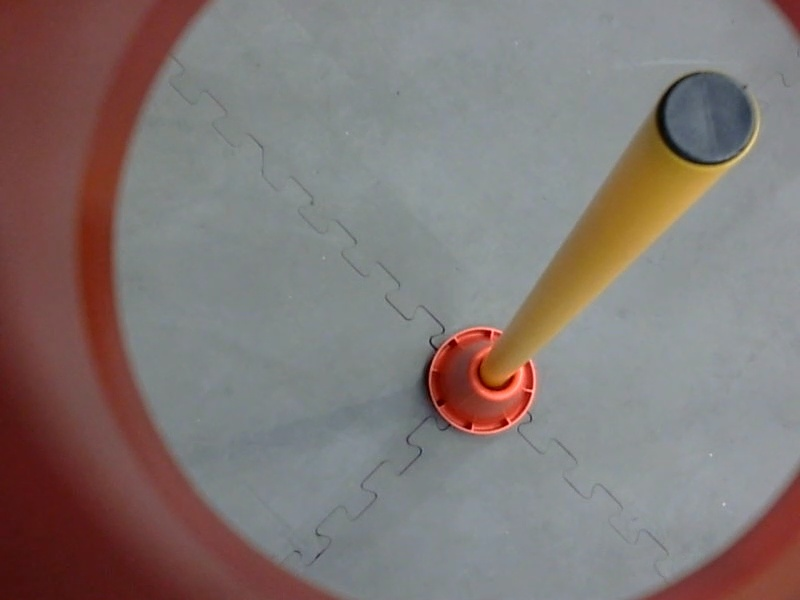tip: (646, 62, 769, 181)
